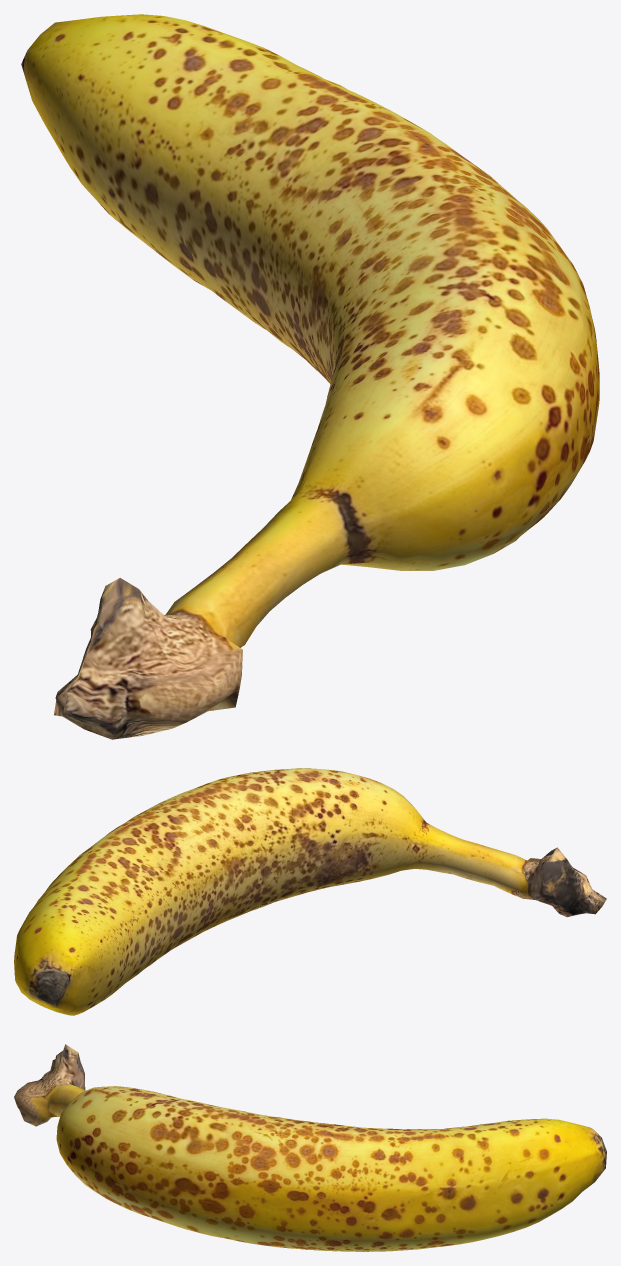
The picture shows the model from 3 angles, top to bottom: view 1: azimuth 30°, elevation 25°; view 2: azimuth 150°, elevation 25°; view 3: azimuth 270°, elevation 25°; orthographic projection. The views are drawn at different scales.
Parts seen in each view (by area): view 1: Banana_LowPoly_01_0; view 2: Banana_LowPoly_01_0; view 3: Banana_LowPoly_01_0.
Part boxes in pixels (x1,y1,x2,y2): Banana_LowPoly_01_0: (21,14,599,739); Banana_LowPoly_01_0: (14,768,606,1015); Banana_LowPoly_01_0: (14,1044,606,1251).
Size of the model in its own units: 0.1179 by 0.0381 by 0.1645.
Materials: 1 (1 with a texture image).
